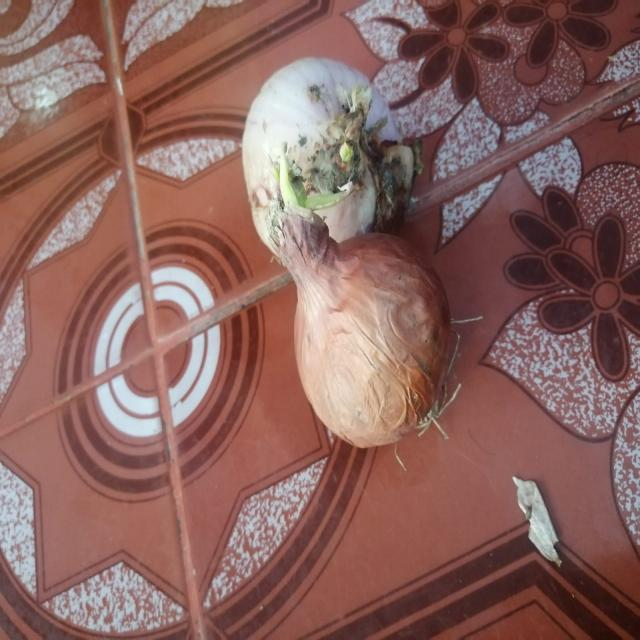rotten: (352, 101, 406, 219)
sprouting: (266, 158, 310, 230), (327, 130, 356, 178)
